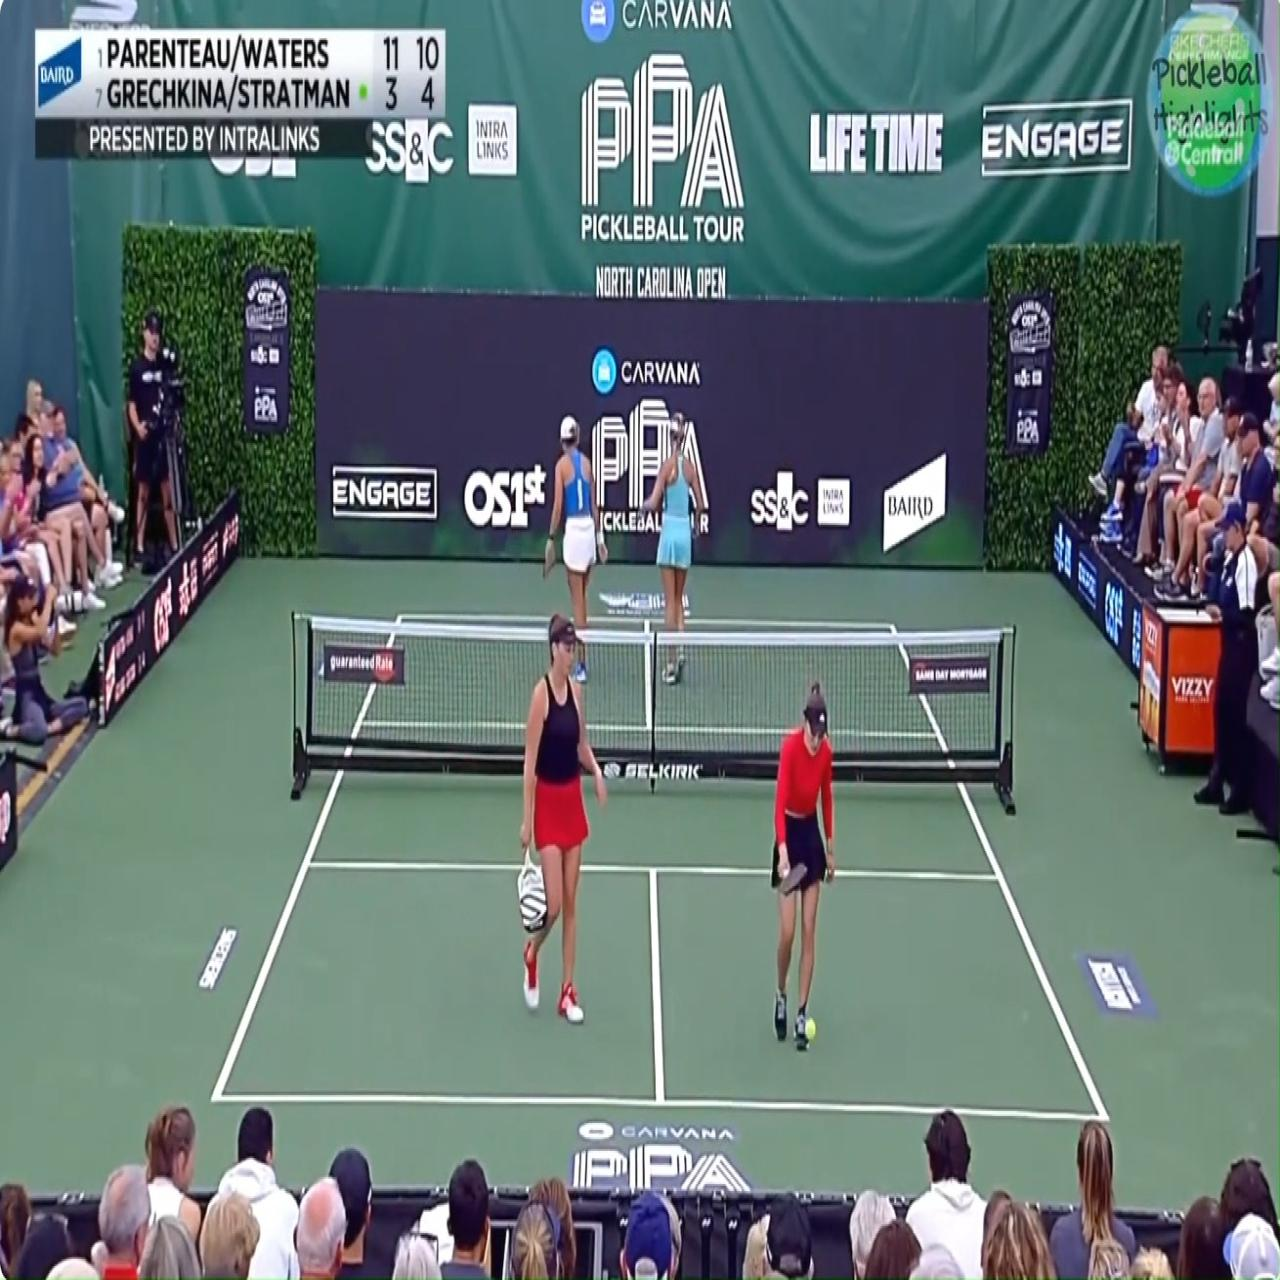pickleball: (804, 1016, 817, 1041)
